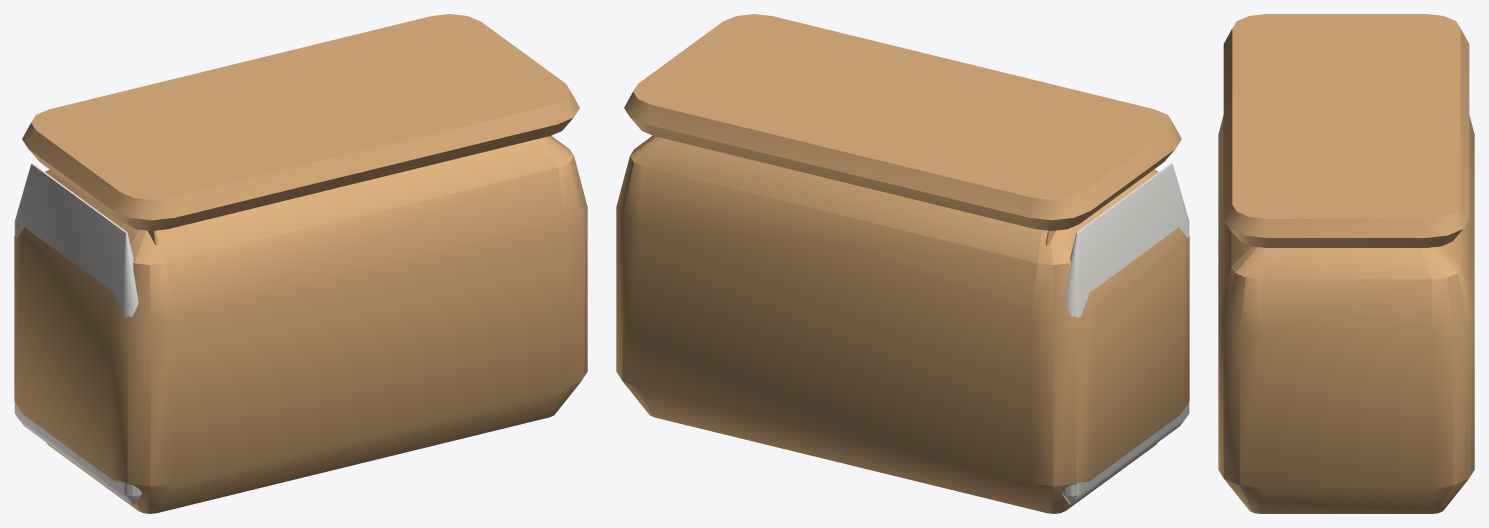
Rendered from bakery-and-cafe-loaf-tin-bread-c81e91e5__22240.glb.
3 views of the same model, side by side, from view 1: azimuth 30°, elevation 25°; view 2: azimuth 150°, elevation 25°; view 3: azimuth 270°, elevation 25° (orthographic). The views are drawn at different scales.
Visible parts, largest first — view 1: loaf-tin-bread; view 2: loaf-tin-bread; view 3: loaf-tin-bread.
Part boxes in pixels (x1,y1,x2,y2): loaf-tin-bread: (14,14,587,513); loaf-tin-bread: (616,14,1189,513); loaf-tin-bread: (1218,14,1474,513).
Bounding box in the file's own units: 0.24 × 0.156 × 0.12.
